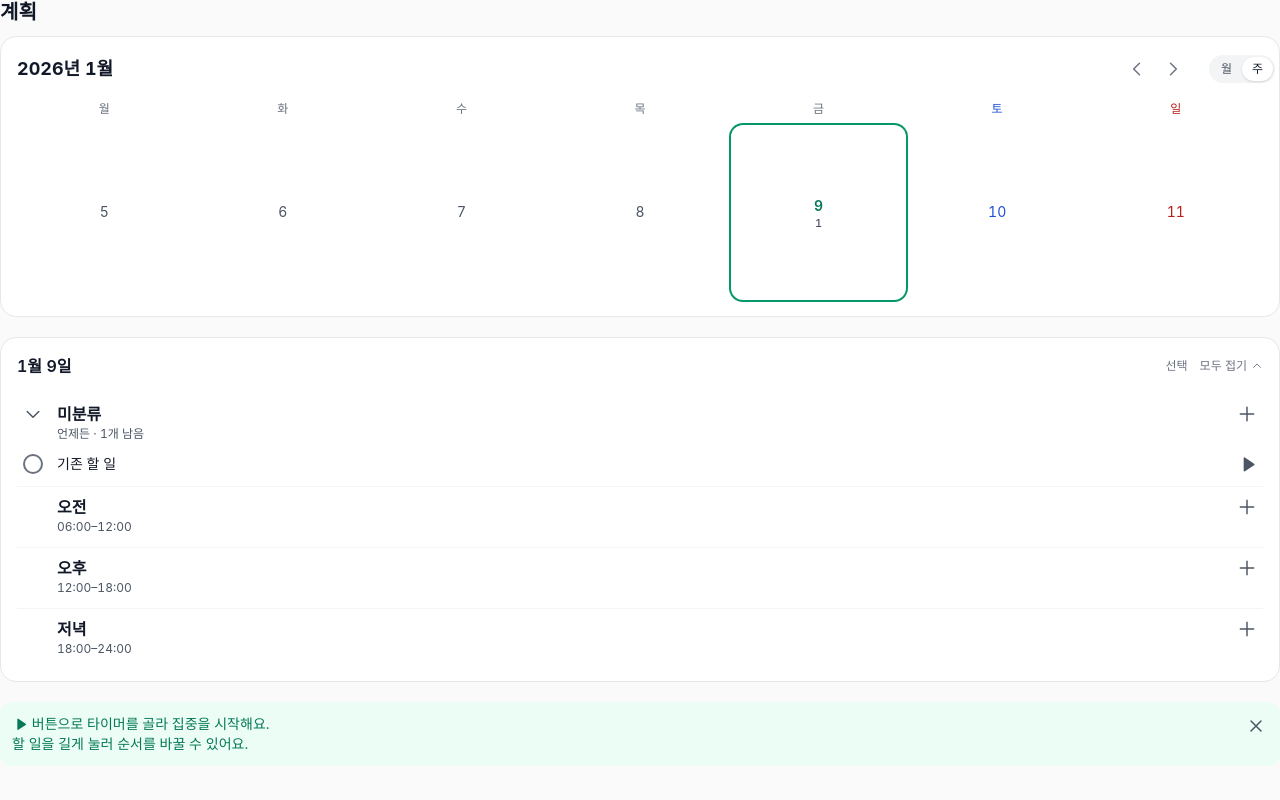
TodosPage › renders, creates, completes, and deletes todos in the main flow
Expected: the text "기존 할 일" is shown, [57,455,116,472]
Click the button named "미분류 할 일 추가" at (1247, 414), box [1231,398,1263,430]
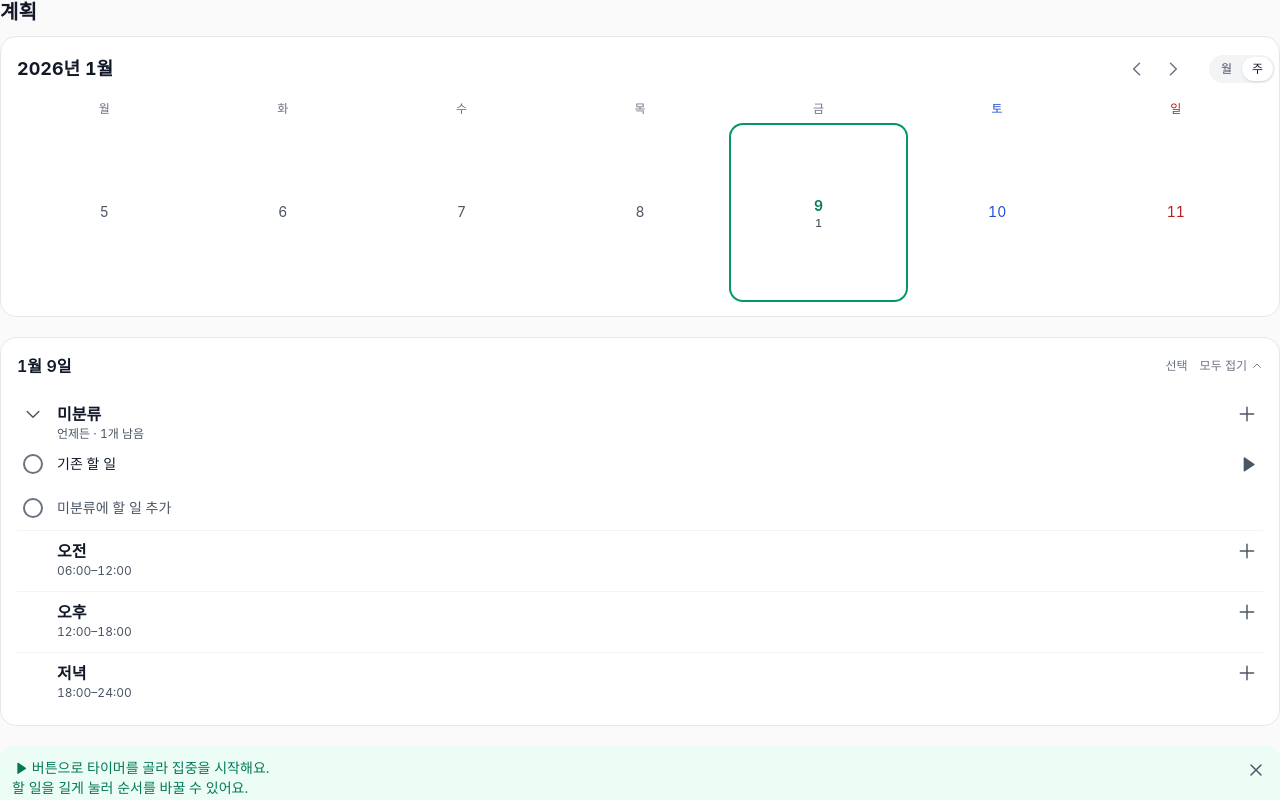
Type "새 할 일" into the text box with placeholder "미분류에 할 일 추가" at (660, 508), box [57,486,1263,530]
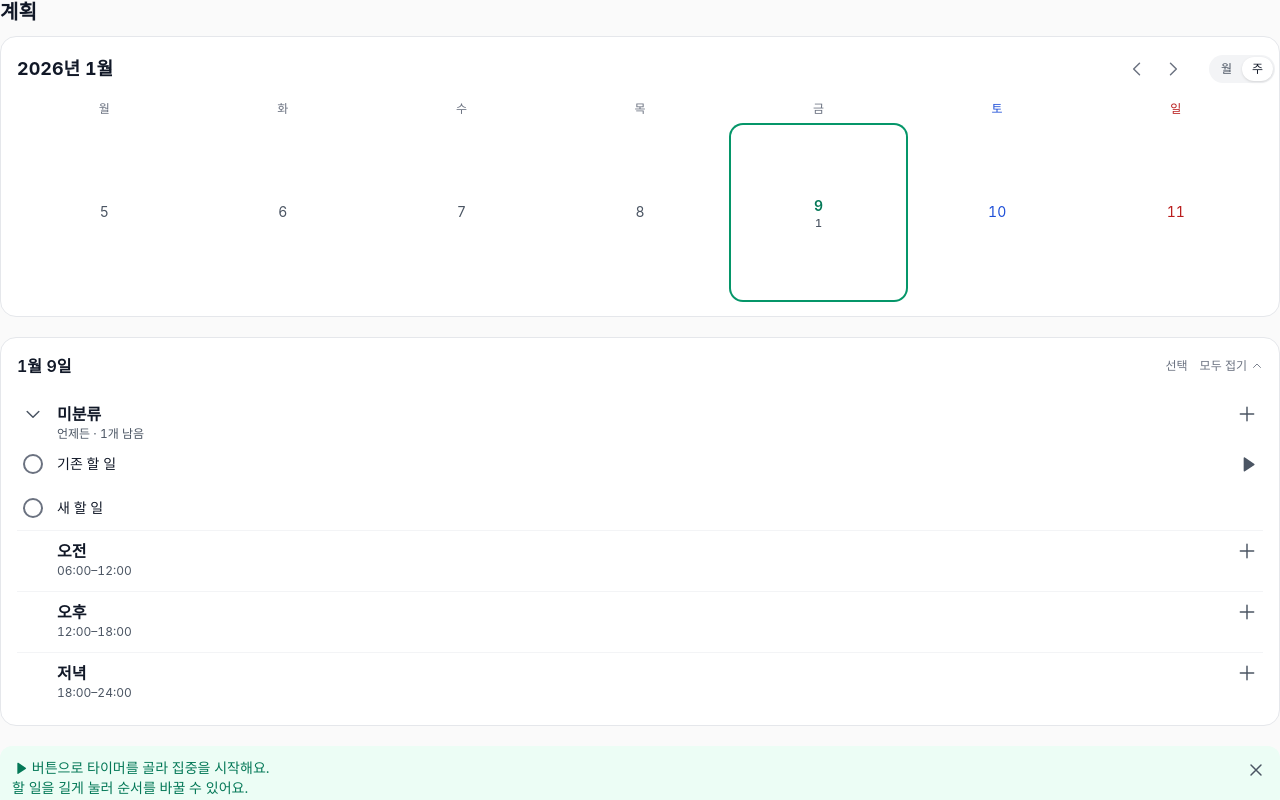
Leave the text box with placeholder "미분류에 할 일 추가", box [57,486,1263,530]
Wait 700 ms
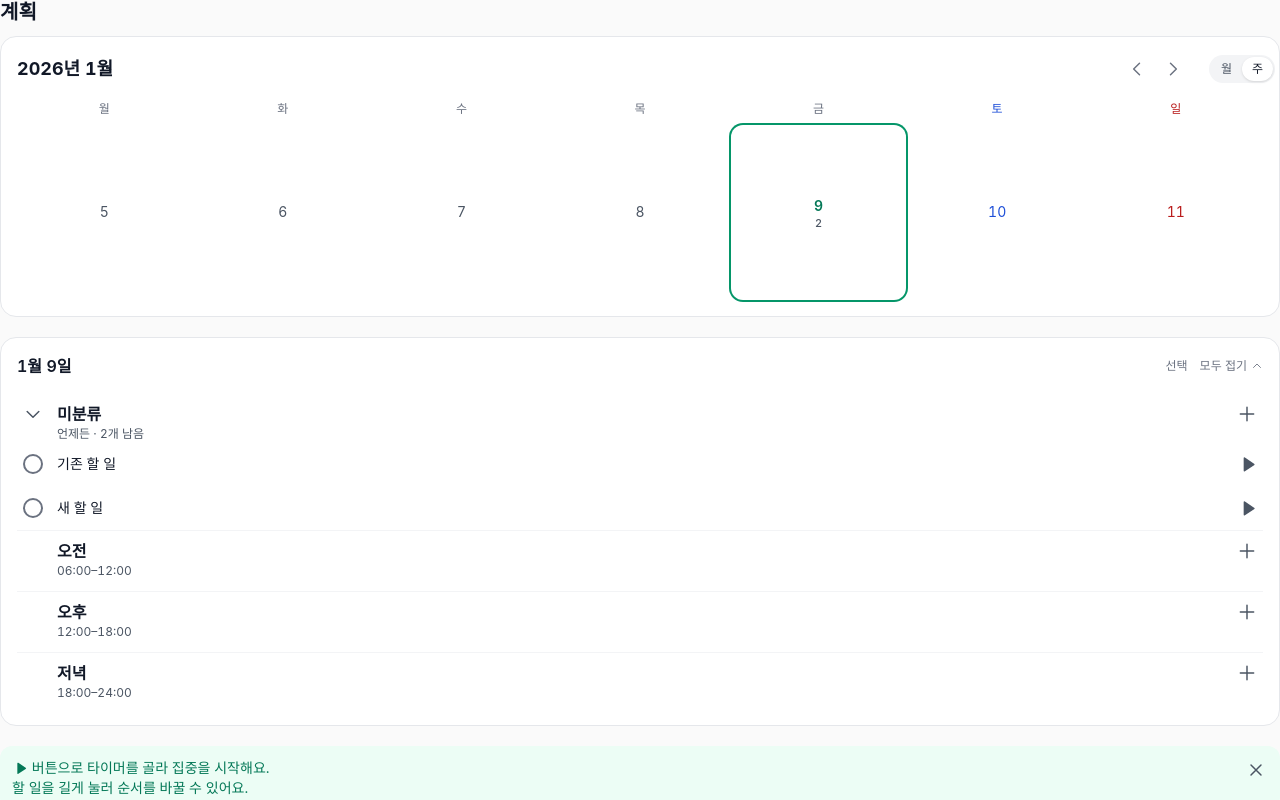
Expected: the text "새 할 일" is shown, [57,499,103,516]
Now the text "언제든 · 2개 남음" is shown, box [57,426,144,441]
Click the button named "새 할 일 완료" at (33, 508), box [23,498,43,518]
Wait 700 ms
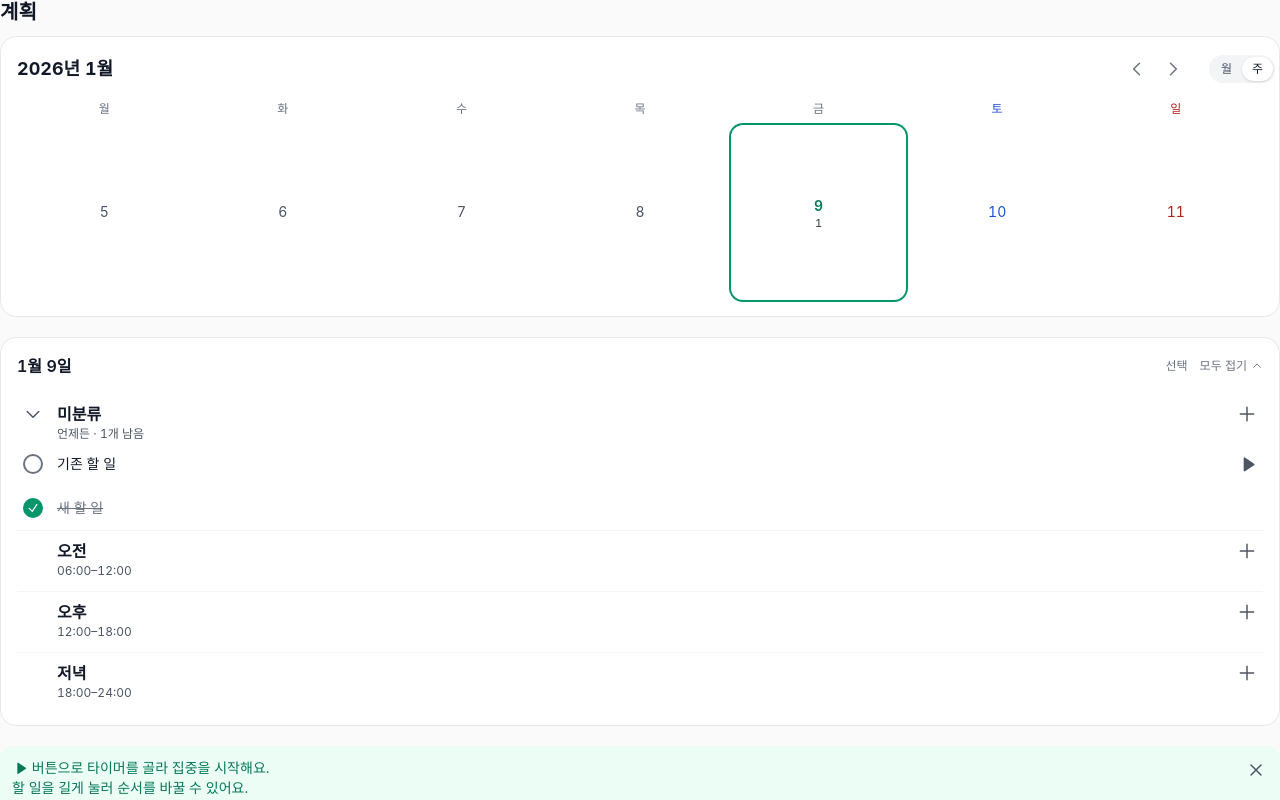
Now the text "언제든 · 1개 남음" is shown, box [57,426,144,441]
Click the button "기존 할 일" at (87, 463), box [57,454,1223,474]
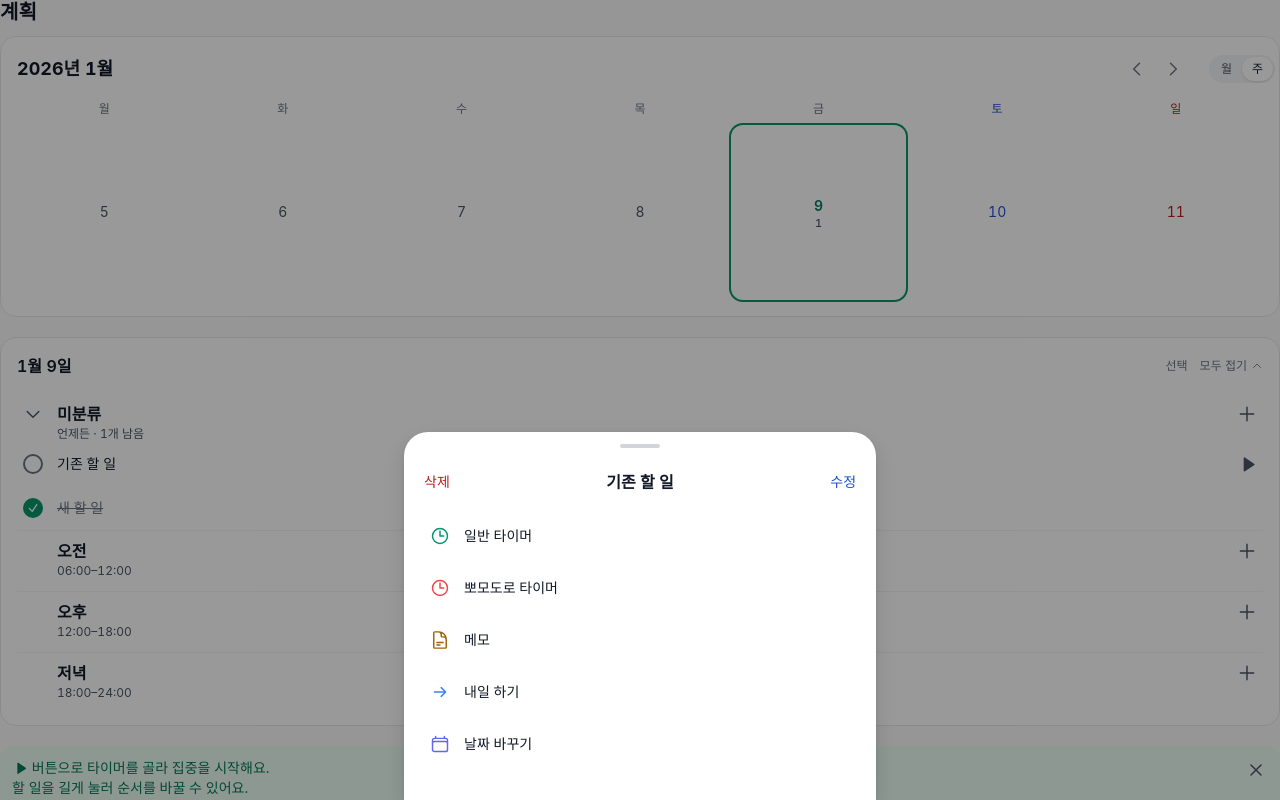
Click the button with aria-label "기존 할 일 삭제" at (437, 482), box [412,464,462,500]
Wait 700 ms
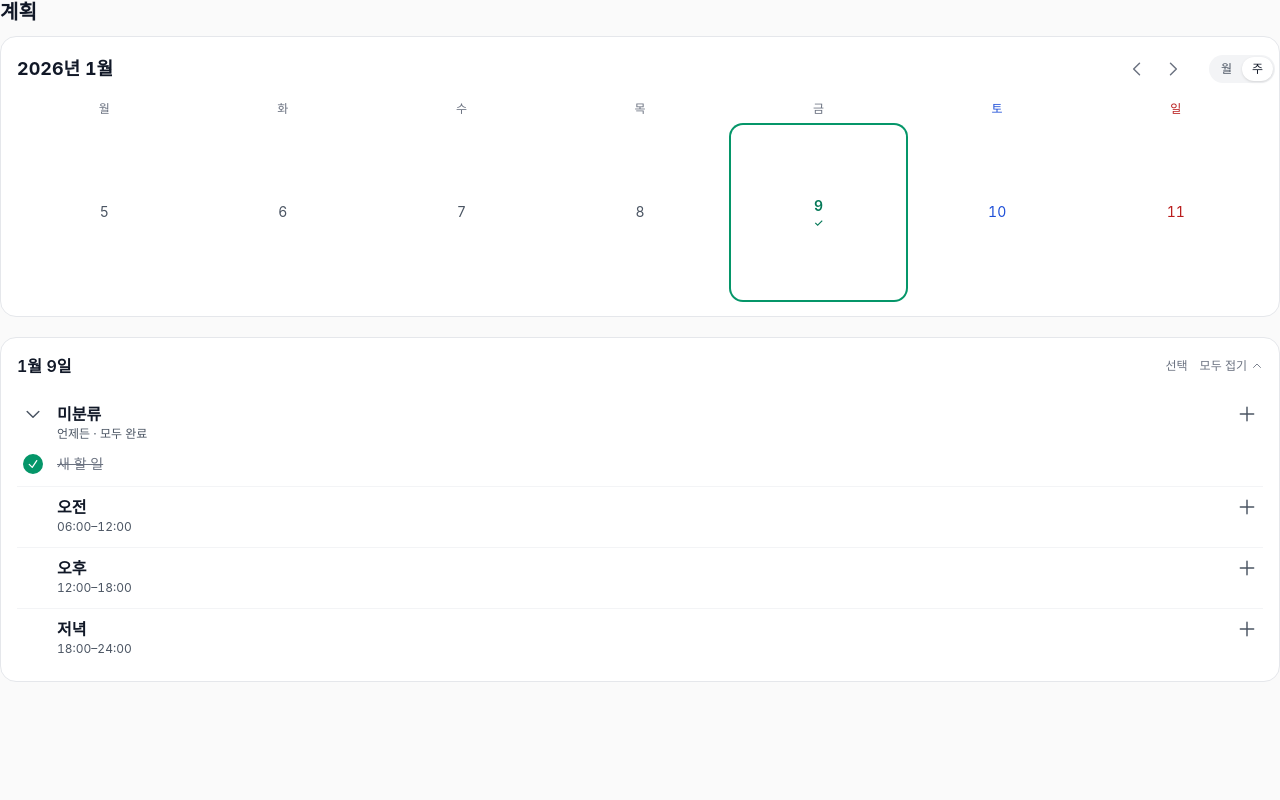
Now the button "기존 할 일" is gone
